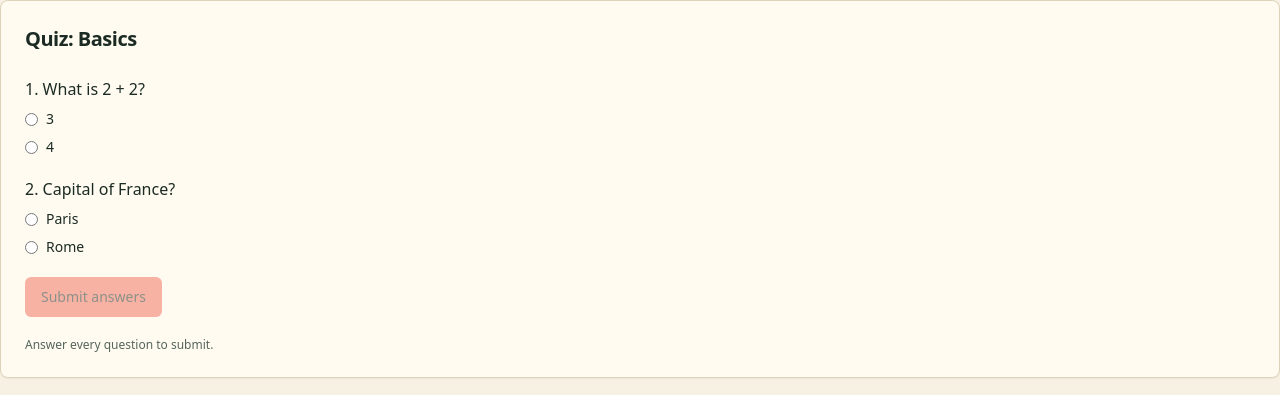
QuizSection › only allows submitting once every question is answered, then shows the result
This screenshot has width=1280, height=395.
Check: the button "Submit answers" is disabled, box [25,277,162,317]
Click the radio button labelled "4" at (32,147), box [25,140,38,154]
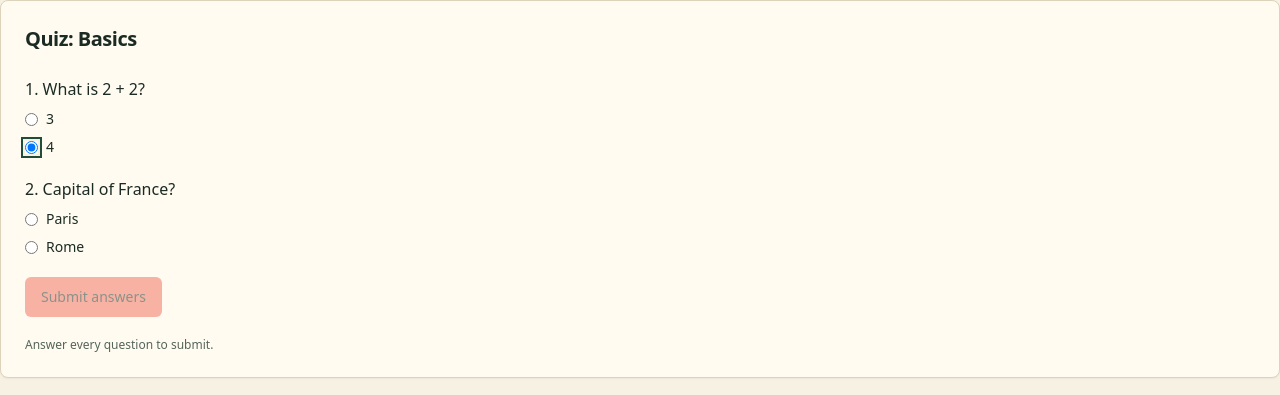
Check: the button "Submit answers" is disabled, box [25,277,162,317]
Click the radio button labelled "Rome" at (32,247), box [25,240,38,254]
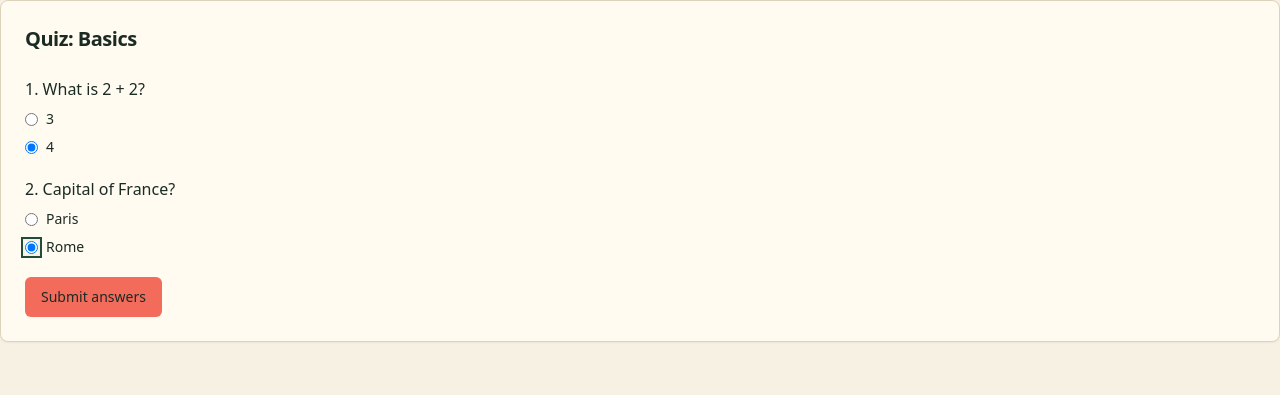
Check: the button "Submit answers" is enabled
Click the button "Submit answers" at (94,297), box [25,277,162,317]
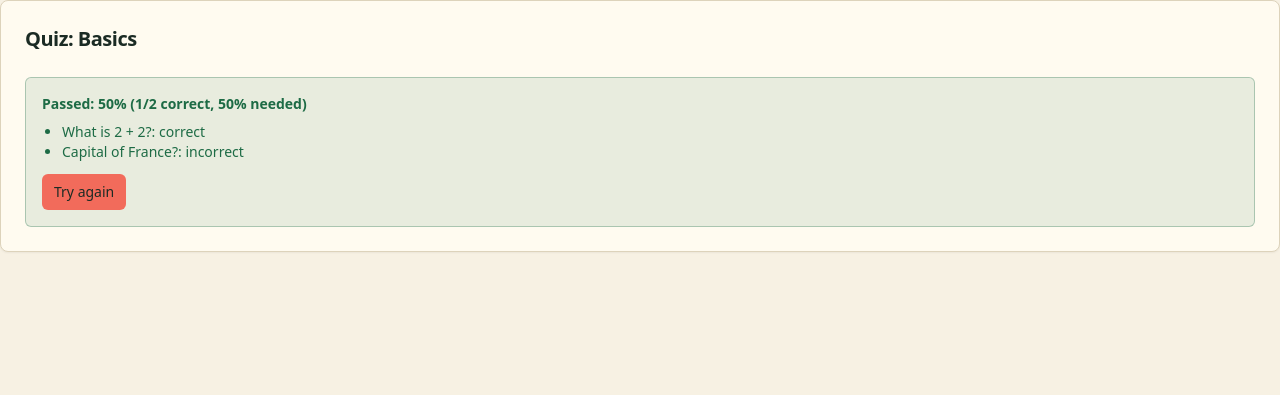
Check: the text "Passed: 50% (1/2 correct, 50% needed)" is shown, box [42,94,307,113]
Check: the list item "Capital of France?: incorrect" is shown, box [62,142,244,161]
